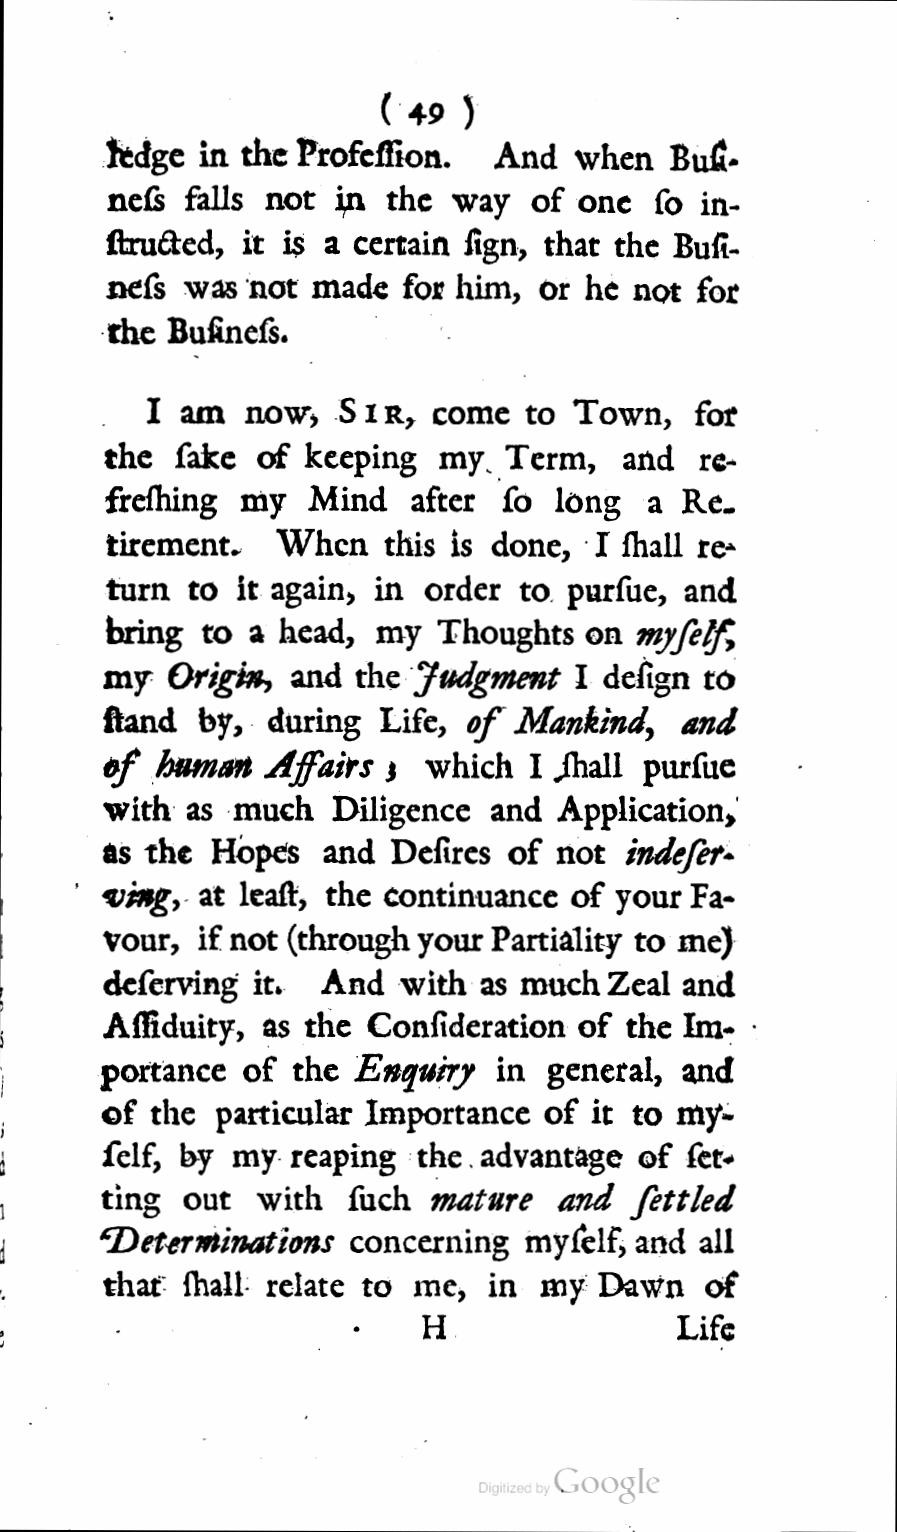bottom_p: (106, 136, 742, 350)
catchword: (672, 1306, 742, 1348)
page_num: (398, 98, 452, 130)
signature: (414, 1306, 452, 1346)
top_p: (103, 390, 747, 1302)
